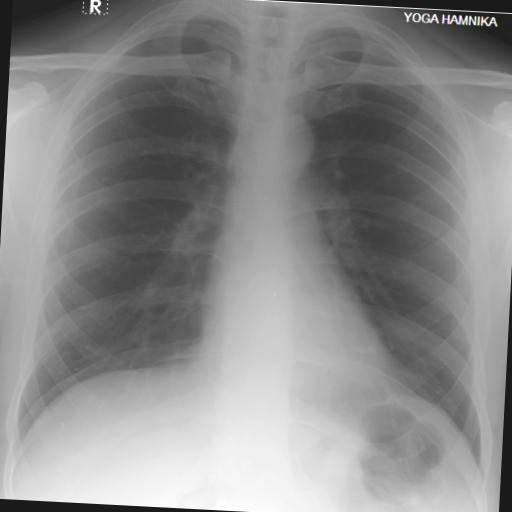normal: (10, 0, 512, 485)
